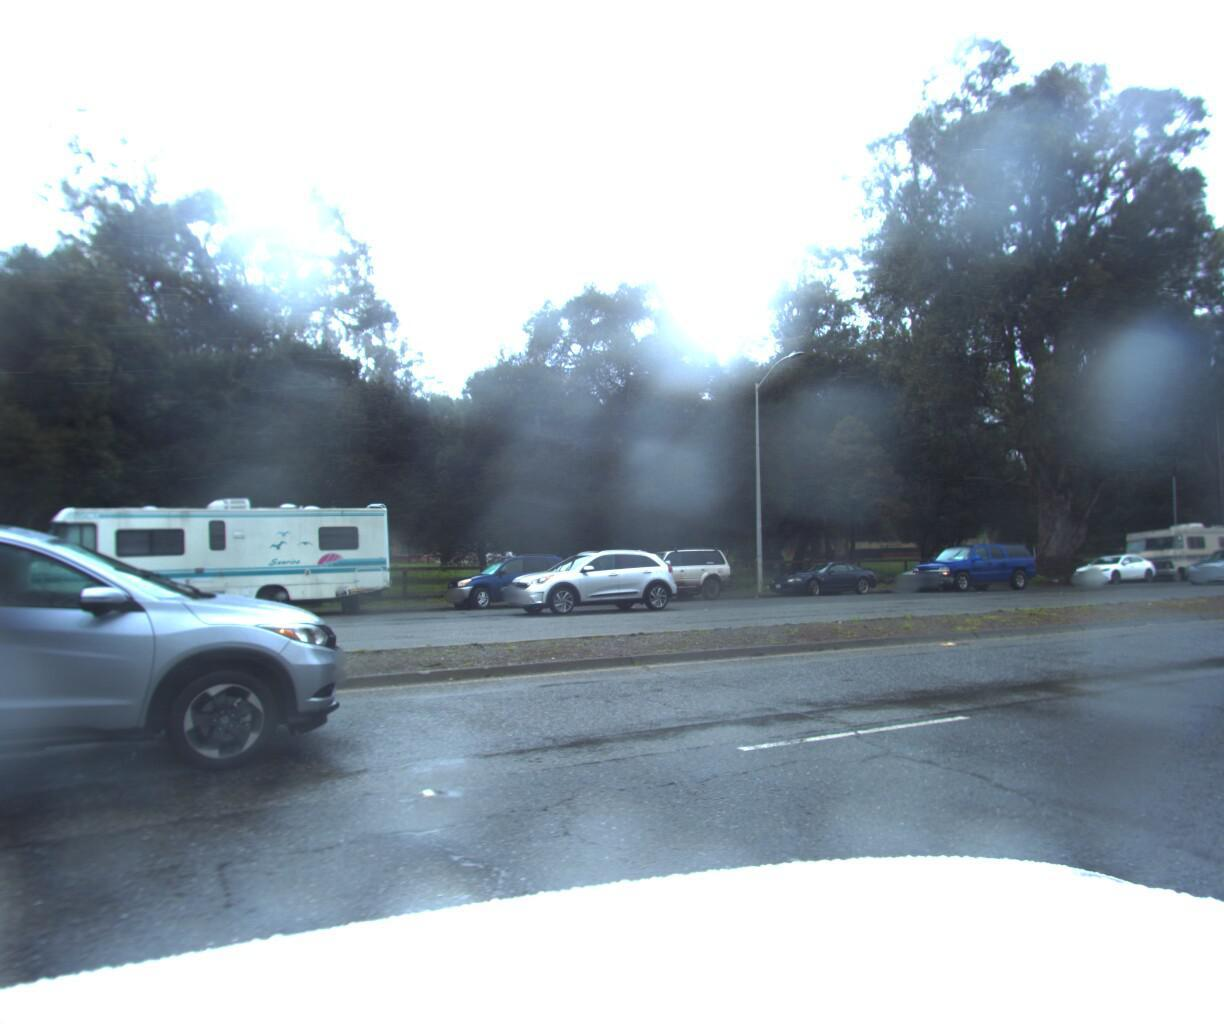car: (495, 546, 685, 618), (591, 542, 743, 607), (435, 553, 585, 613), (900, 537, 1039, 592), (760, 558, 880, 599), (888, 554, 993, 591), (1061, 551, 1156, 583), (1177, 543, 1224, 583)
other_vehicle: (10, 487, 403, 635), (1106, 517, 1224, 583)
